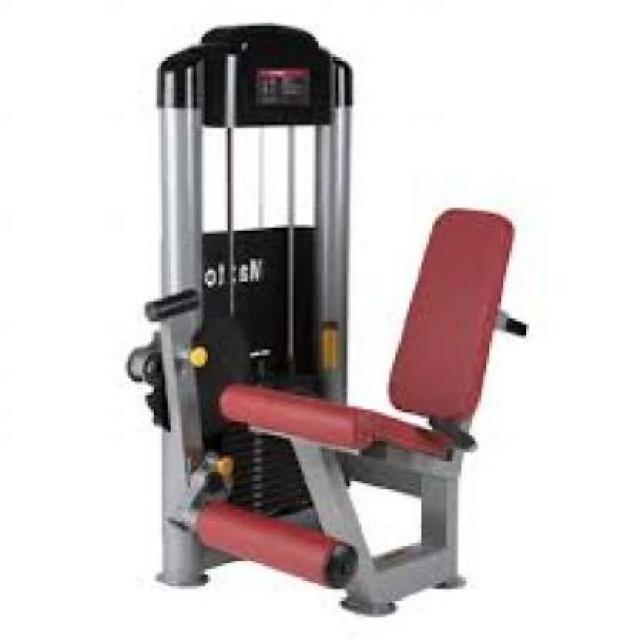leg extension: (105, 14, 543, 621)
